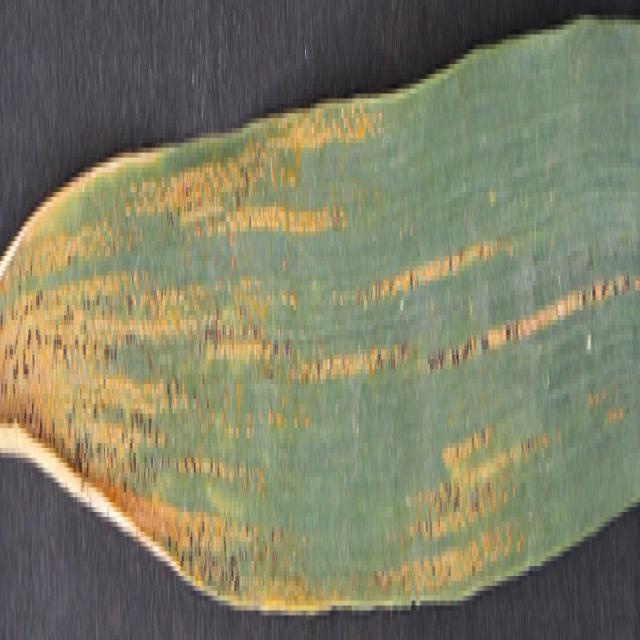leaf rust: (1, 94, 606, 596)
